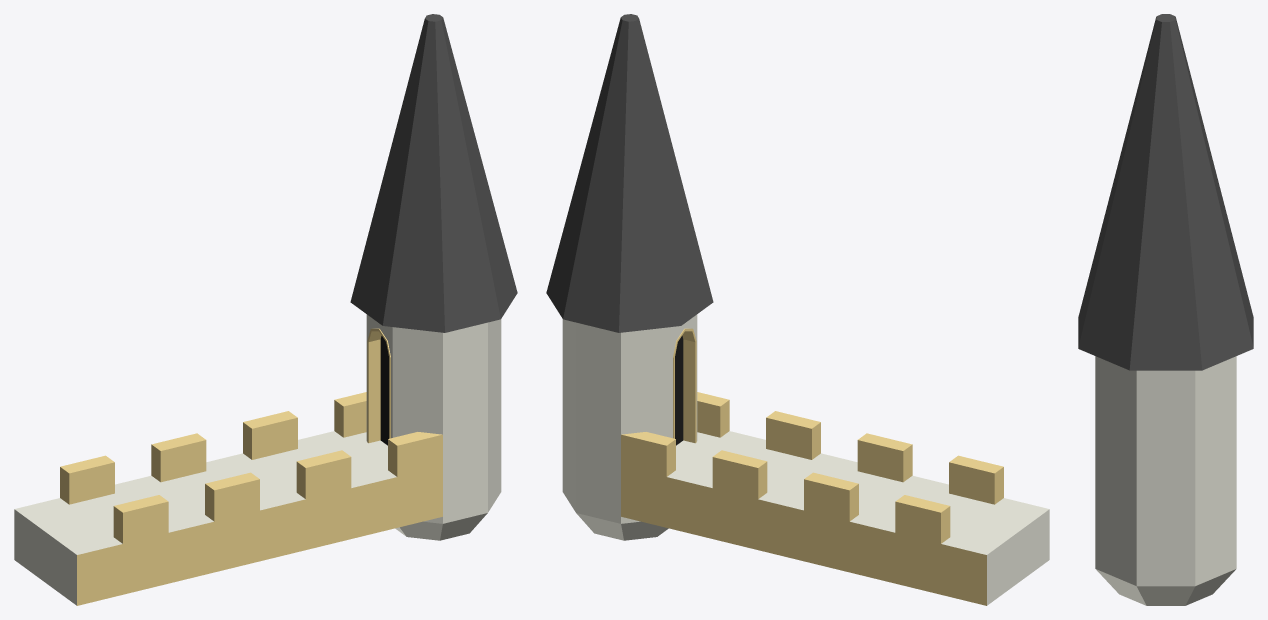
Rendered from Castle_Building_03.fbx.
3 views of the same model, side by side, from view 1: azimuth 30°, elevation 25°; view 2: azimuth 150°, elevation 25°; view 3: azimuth 270°, elevation 25° (orthographic). The views are drawn at different scales.
Parts seen in each view (by area): view 1: Castle_Building_03; view 2: Castle_Building_03; view 3: Castle_Building_03.
Part boxes in pixels (x1,y1,x2,y2): Castle_Building_03: (14,14,517,605); Castle_Building_03: (546,14,1049,605); Castle_Building_03: (1078,14,1253,605).
Bounding box in the file's own units: 128 × 135 × 37.88.
